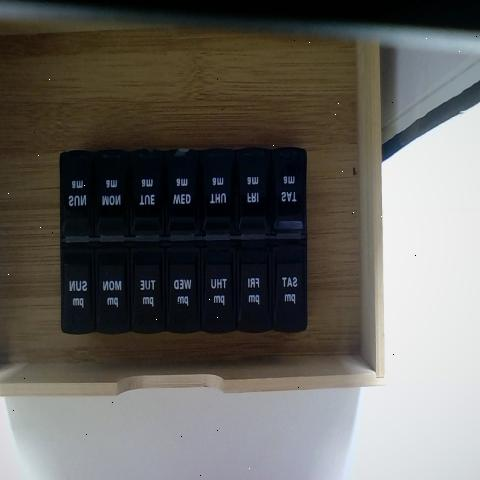FRI-am: (235, 152, 268, 238)
FRI-pm: (237, 245, 273, 331)
MON-am: (96, 150, 128, 238)
MON-pm: (95, 246, 131, 332)
SAT-am: (273, 148, 304, 239)
SAT-pm: (275, 244, 307, 328)
SUN-am: (60, 152, 96, 242)
SUN-pm: (60, 247, 95, 333)
THU-am: (201, 150, 231, 237)
THU-pm: (200, 245, 234, 331)
TUE-am: (128, 153, 166, 238)
TUE-pm: (130, 241, 167, 333)
WED-am: (163, 152, 199, 242)
WED-pm: (162, 240, 202, 332)
